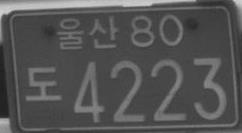0: (158, 12, 183, 47)
2: (149, 57, 187, 121), (110, 59, 144, 122)
3: (191, 56, 227, 120)
4: (73, 61, 105, 122)
8: (130, 14, 155, 48)
도: (25, 65, 63, 101)
울산_O: (57, 16, 119, 50)
